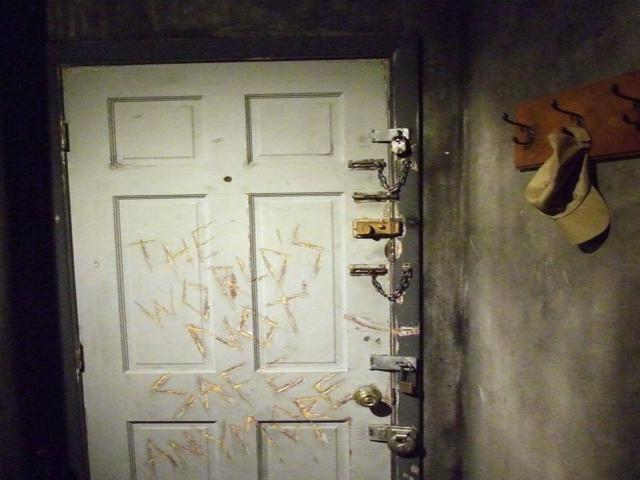Door-handle: (366, 424, 424, 447), (350, 218, 404, 242), (368, 352, 420, 374), (365, 126, 418, 144), (350, 390, 386, 408)
